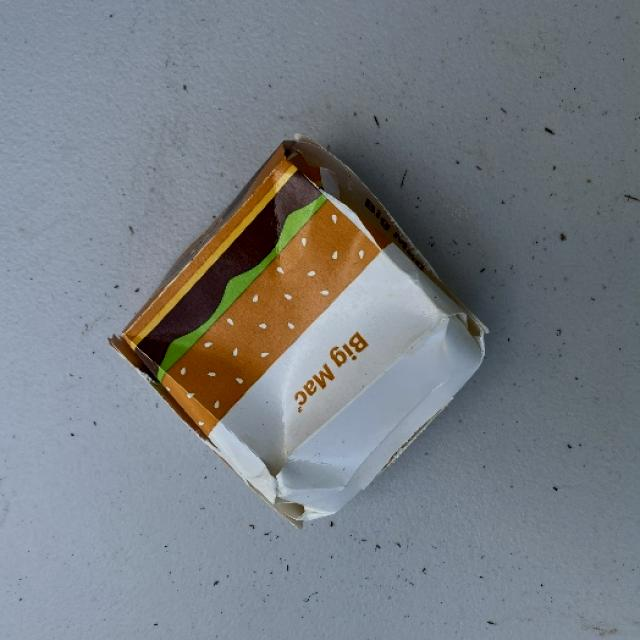kertas: (93, 140, 497, 533)
